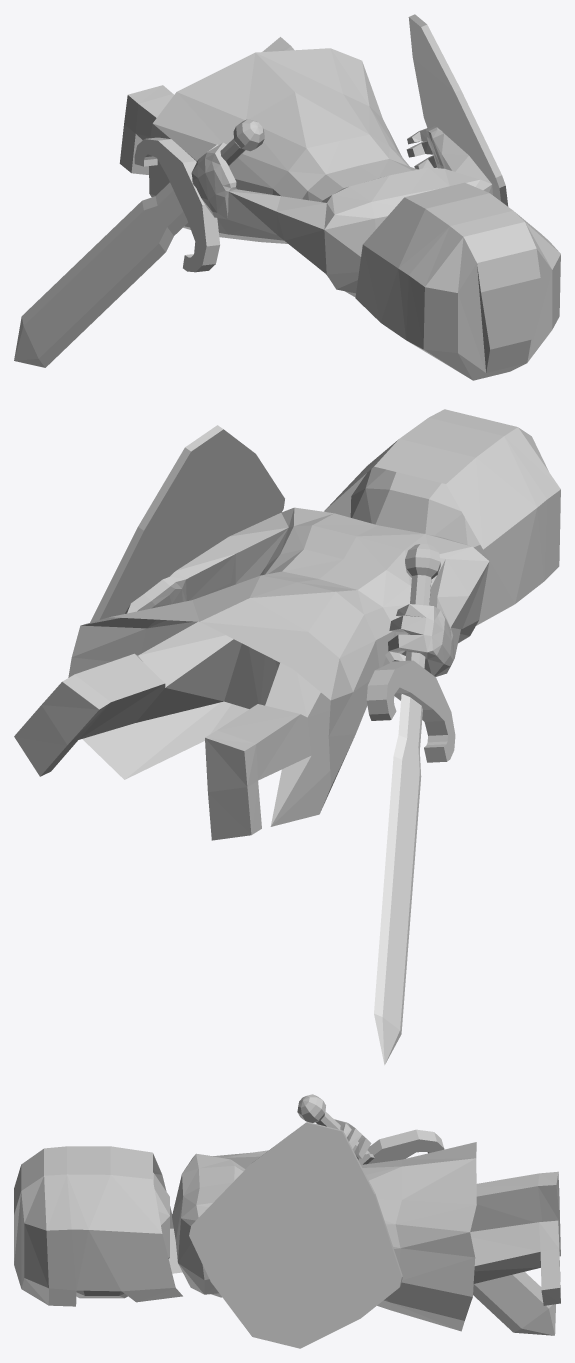
File: knight_idle.obj
3 renders of one model, top to bottom at view 1: azimuth 30°, elevation 25°; view 2: azimuth 150°, elevation 25°; view 3: azimuth 270°, elevation 25°, orthographic. The views are drawn at different scales.
Visible parts, largest first — view 1: knight; view 2: knight; view 3: knight.
Part boxes in pixels (<box>): knight: <box>14,14,560,380</box>; knight: <box>14,409,560,1065</box>; knight: <box>14,1094,560,1348</box>.
Size of the model in its own units: 5.71 by 5.97 by 8.8.
